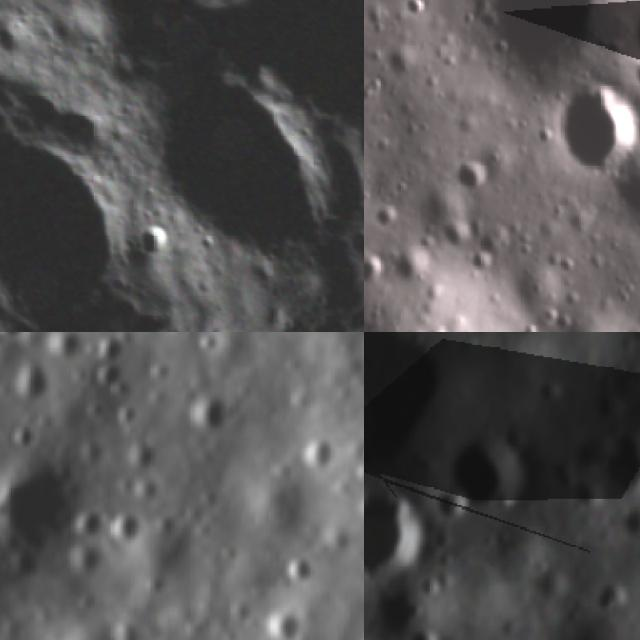crater: (105, 50, 363, 304), (0, 100, 150, 332), (217, 0, 364, 163), (0, 438, 110, 574), (450, 426, 543, 522), (364, 486, 439, 589), (552, 91, 640, 168), (177, 376, 249, 451), (111, 218, 182, 271), (3, 352, 63, 412), (249, 590, 316, 640), (603, 425, 640, 504), (294, 423, 345, 478), (278, 544, 332, 594), (0, 12, 39, 73), (340, 106, 364, 203), (85, 332, 140, 374), (549, 454, 588, 496), (599, 580, 631, 616), (538, 378, 567, 409), (0, 332, 47, 350), (460, 160, 487, 188), (364, 251, 384, 284), (624, 501, 640, 541), (377, 206, 401, 232), (350, 451, 364, 491), (412, 625, 446, 640), (404, 0, 428, 17), (352, 432, 364, 466), (426, 326, 457, 332)
